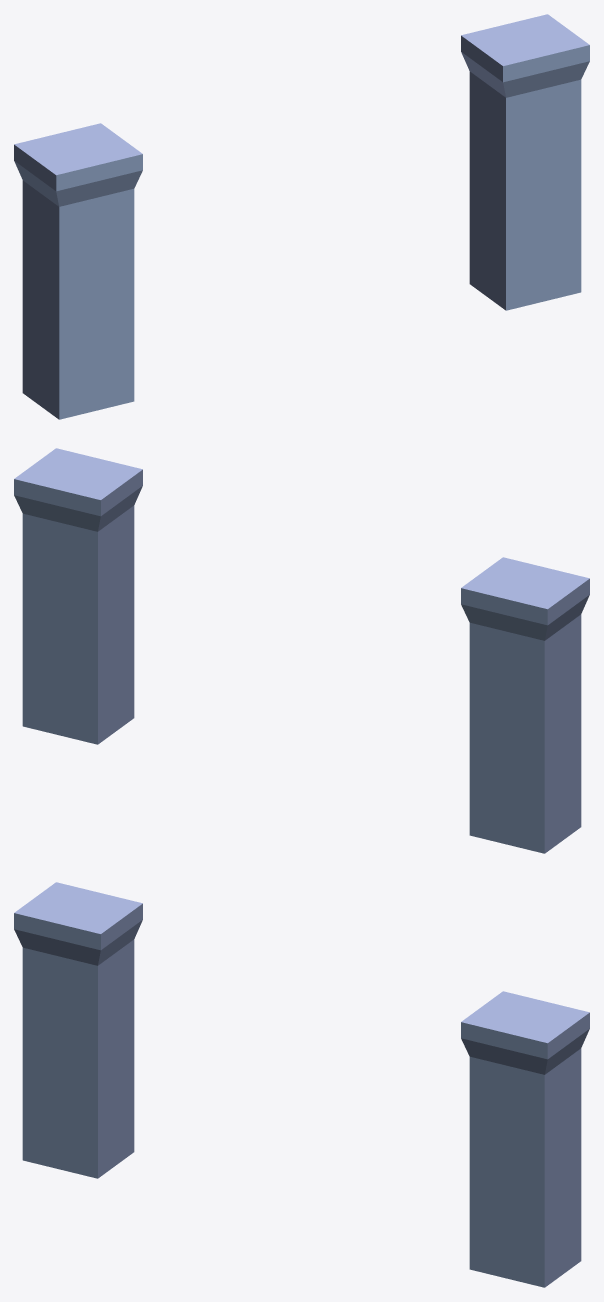
The model's file is column.fbx.
3 renders of one model, top to bottom at view 1: azimuth 30°, elevation 25°; view 2: azimuth 150°, elevation 25°; view 3: azimuth 330°, elevation 25°, orthographic.
Visible parts, largest first — view 1: column; view 2: column; view 3: column.
Boxes of the visible parts, bbox=[...] form: column: bbox=[14, 14, 589, 419]; column: bbox=[14, 448, 589, 853]; column: bbox=[14, 882, 589, 1287].
Bounding box in the file's own units: 702 × 312 × 96.12.
